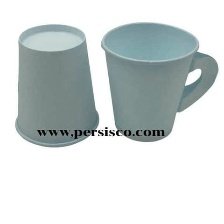paper_cup: (96, 18, 221, 145), (8, 20, 103, 150)
